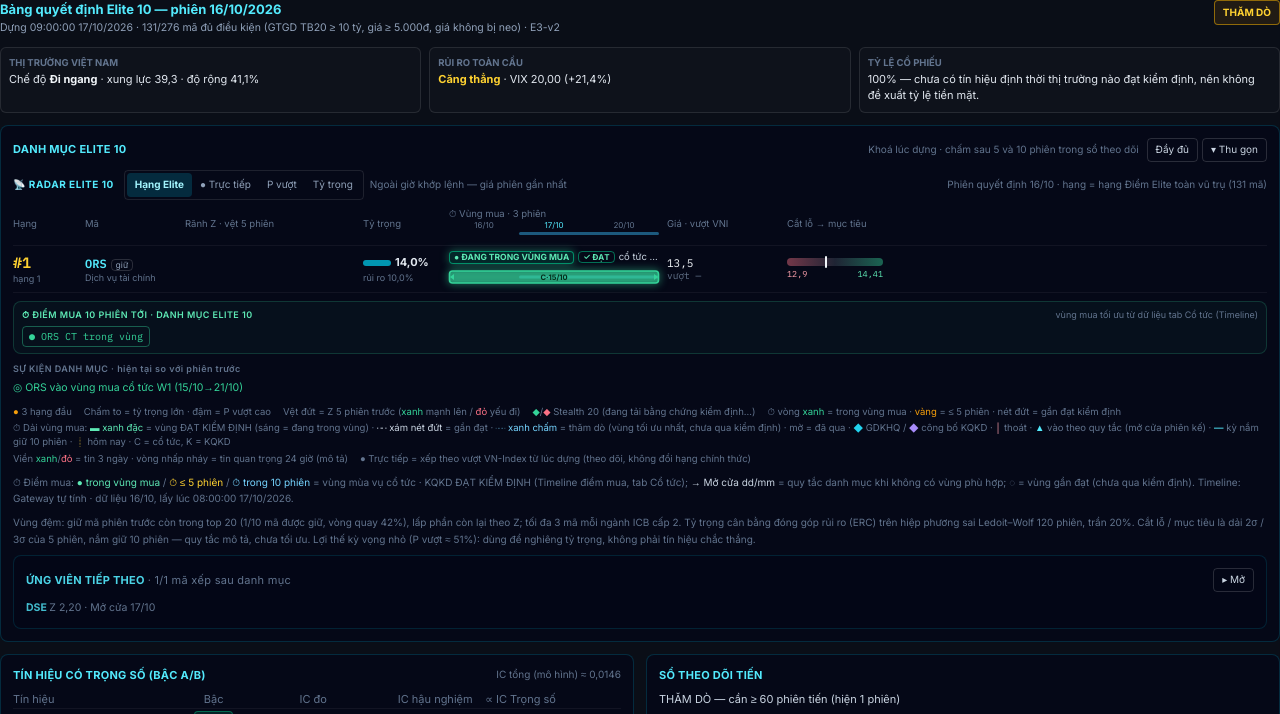
Test case: Elite 10 E4 — Bảng quyết định & Hồ sơ 360° › C2: màn hẹp tự dùng chế độ gọn khi người dùng chưa chọn; Gateway cũ (không có candidates) vẫn hiện ứng viên từ scores
Click the button "▸ Mở" at [1234, 580], box [1213,568,1254,592]
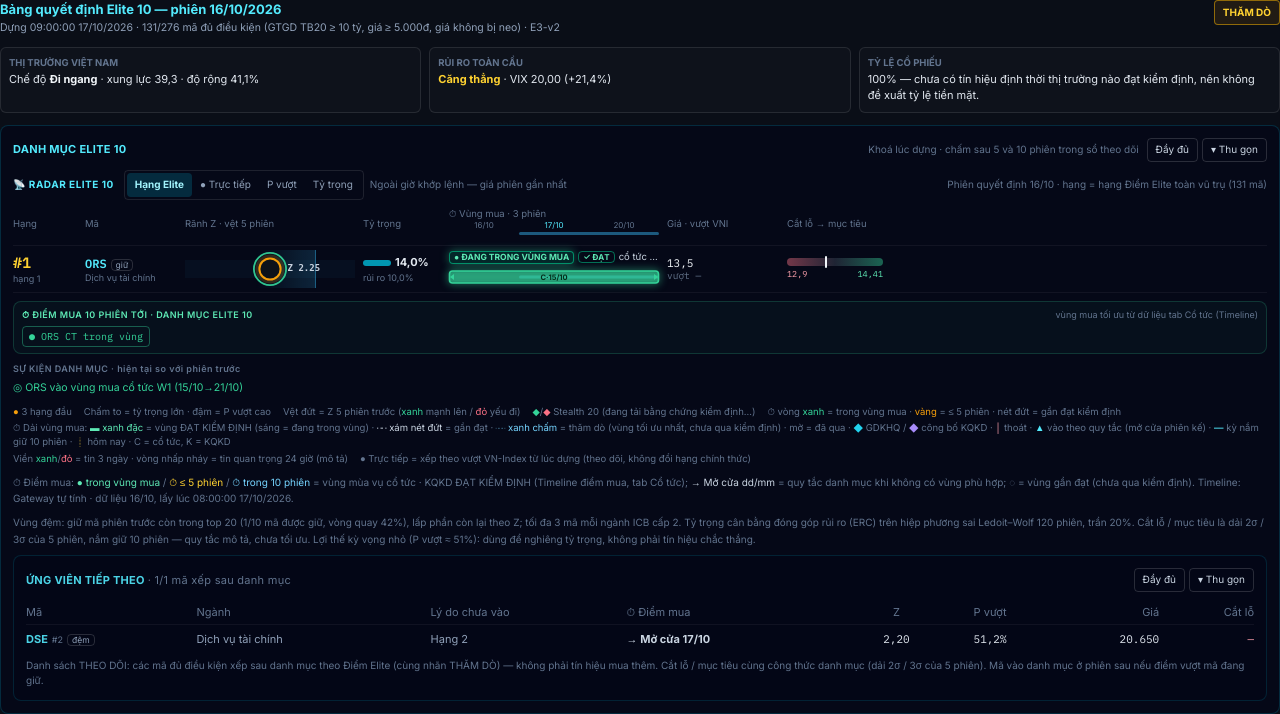
Check: the cell "Hạng 2" is shown, box [431,625,627,654]
